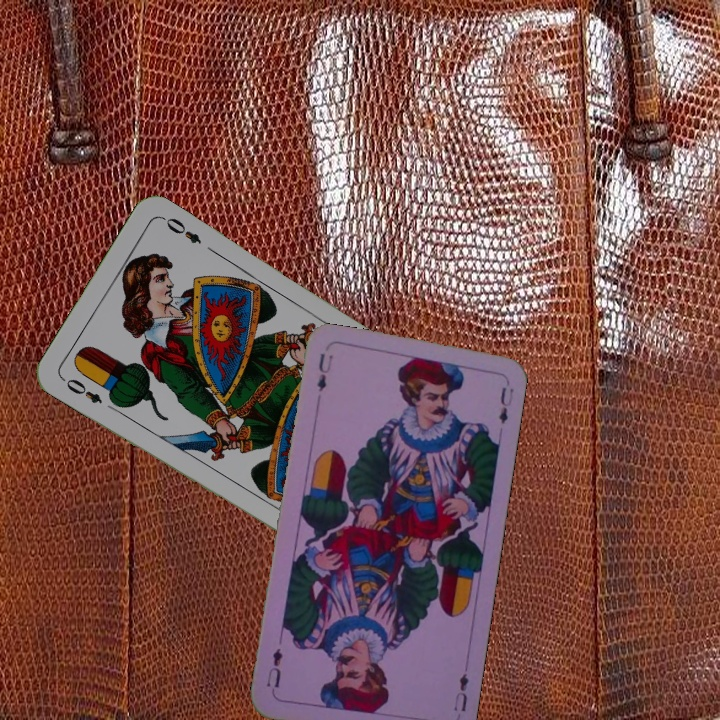EO: (57, 374, 105, 406)
EU: (449, 669, 471, 715), (313, 349, 334, 394)
